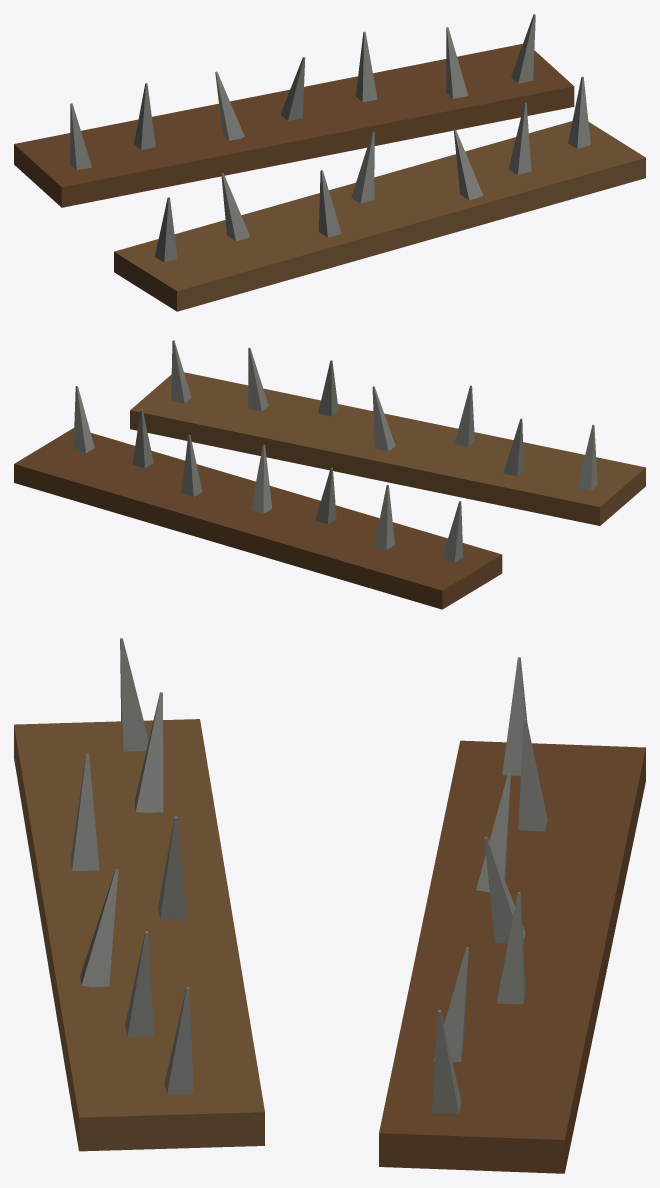
Rendered from estacas_chao.glb.
3 renders of one model, top to bottom at view 1: azimuth 30°, elevation 25°; view 2: azimuth 150°, elevation 25°; view 3: azimuth 270°, elevation 25°, orthographic. The views are drawn at different scales.
Parts seen in each view (by area): view 1: estacas_chao.001; view 2: estacas_chao.001; view 3: estacas_chao.001.
Boxes of the visible parts, bbox=[...] form: estacas_chao.001: bbox=[14, 14, 645, 311]; estacas_chao.001: bbox=[14, 340, 645, 609]; estacas_chao.001: bbox=[14, 638, 645, 1173].
Bounding box in the file's own units: 1.07 × 0.165 × 0.6778.
